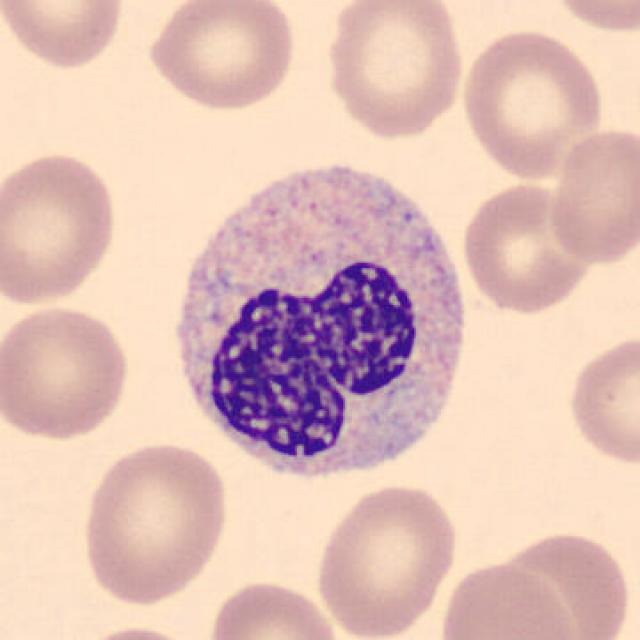Neutrophil: (160, 147, 478, 498)
RBC: (76, 438, 233, 608), (457, 25, 608, 182), (311, 482, 462, 638), (318, 0, 468, 141), (0, 147, 123, 310), (0, 300, 135, 444), (459, 180, 599, 317), (142, 0, 299, 115), (489, 525, 635, 640), (544, 123, 638, 268), (436, 559, 578, 640), (563, 329, 640, 469), (0, 0, 128, 72), (203, 576, 345, 640), (544, 0, 638, 35), (70, 622, 206, 640)
